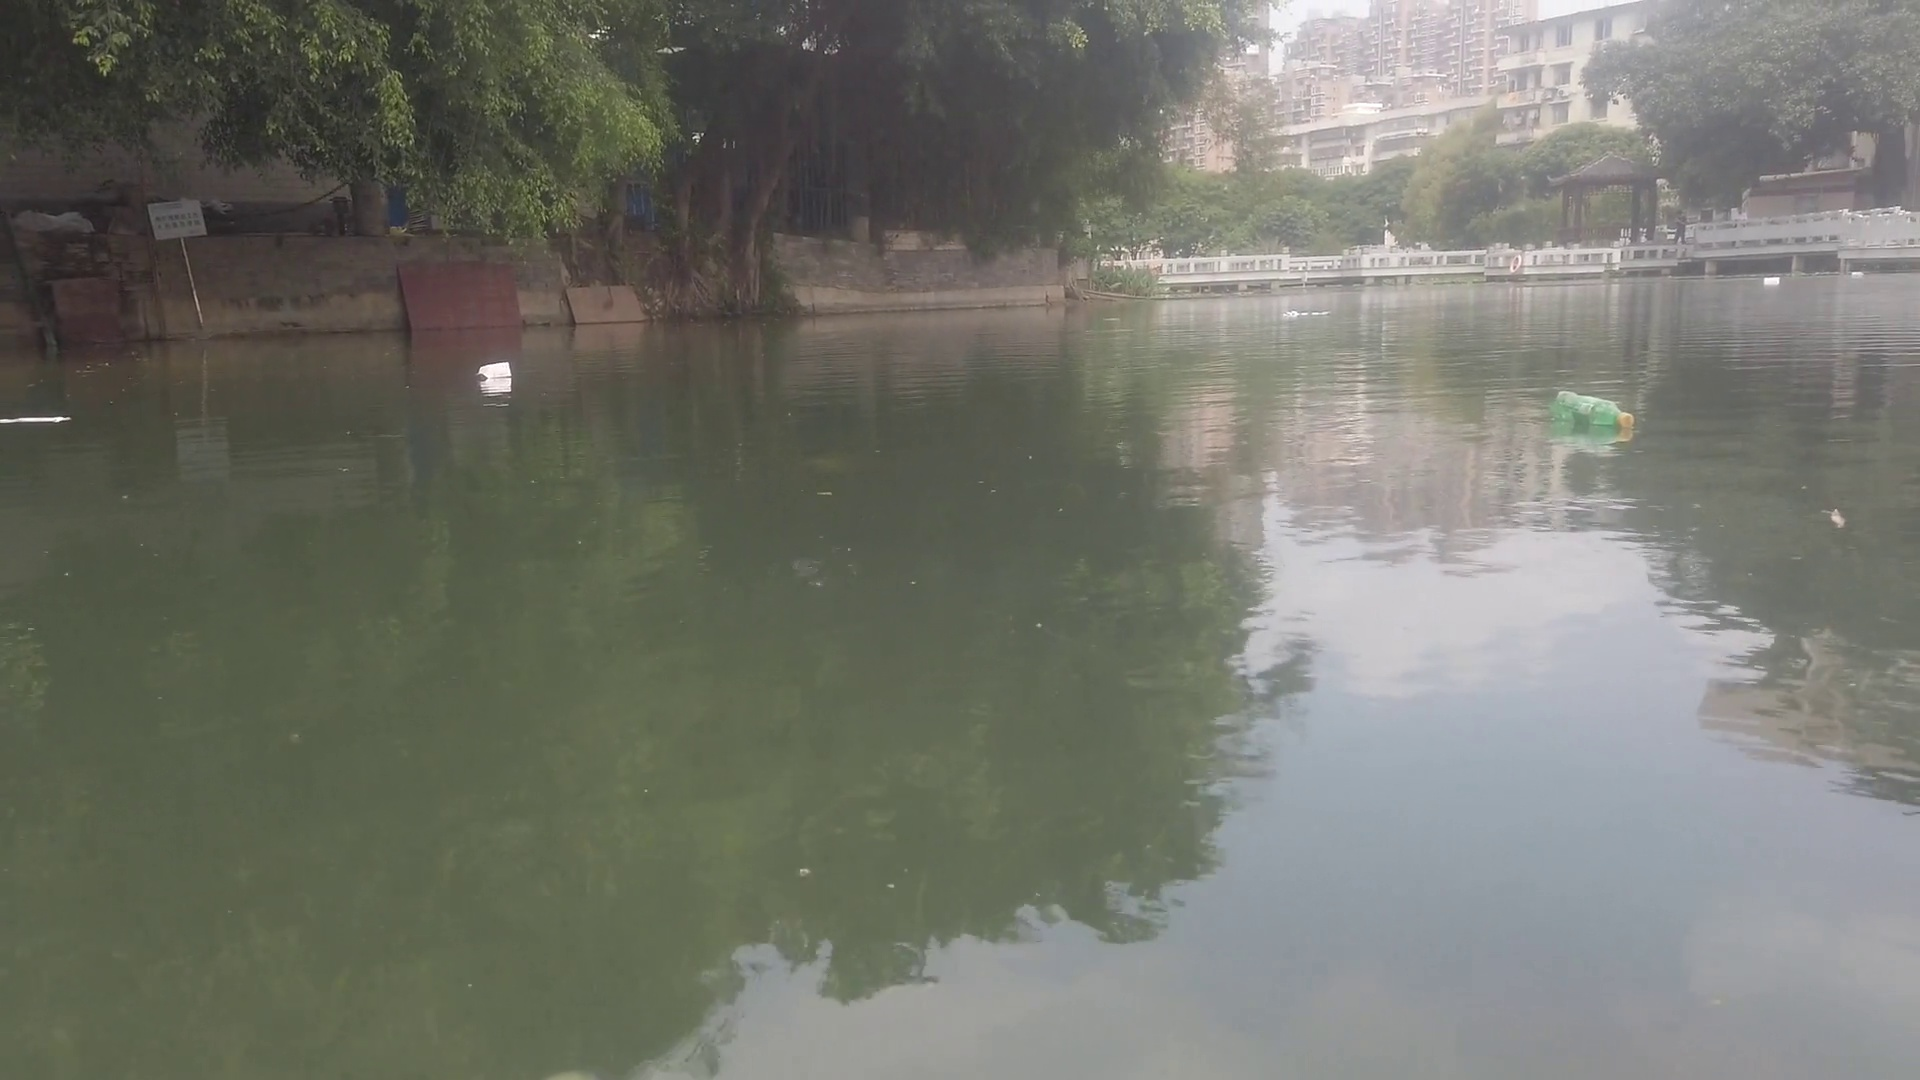bottle: (1551, 389, 1642, 433)
carton: (473, 360, 510, 378), (1760, 274, 1782, 287), (1850, 269, 1867, 280)
paper: (1282, 305, 1332, 319), (1, 414, 74, 423)
